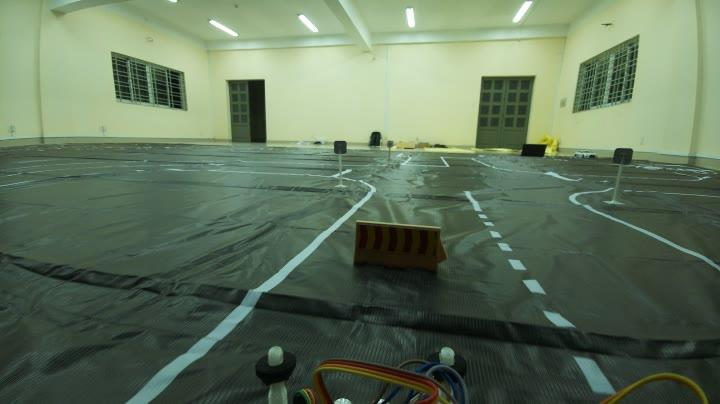roadblock: (345, 216, 457, 276)
